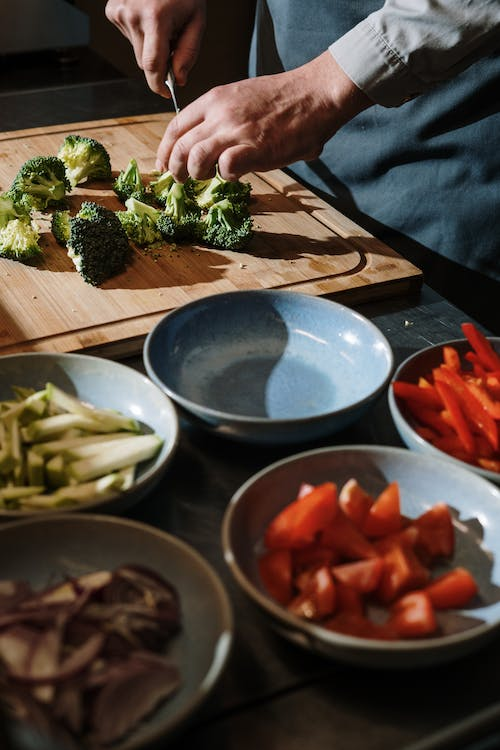knife: (163, 55, 182, 114)
